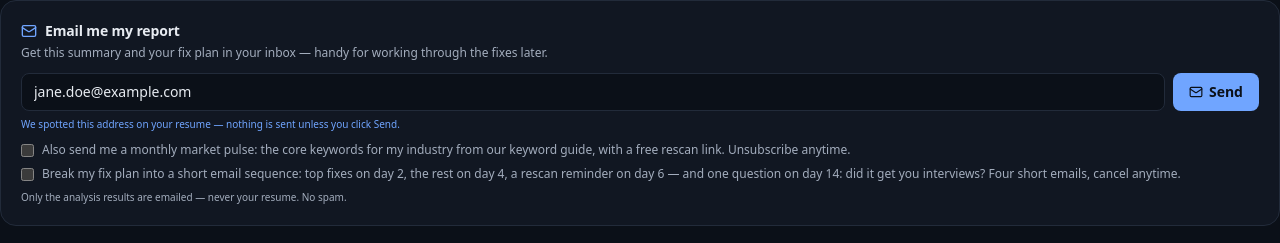
Scenario: EmailReportCapture prefill › hides the disclosure once the user edits the address
The width and height of the screenshot is (1280, 243).
Step 1. Replace the text in the field with placeholder "you@example.com" with "other@example.com" → (593, 92), box [21, 73, 1165, 111]
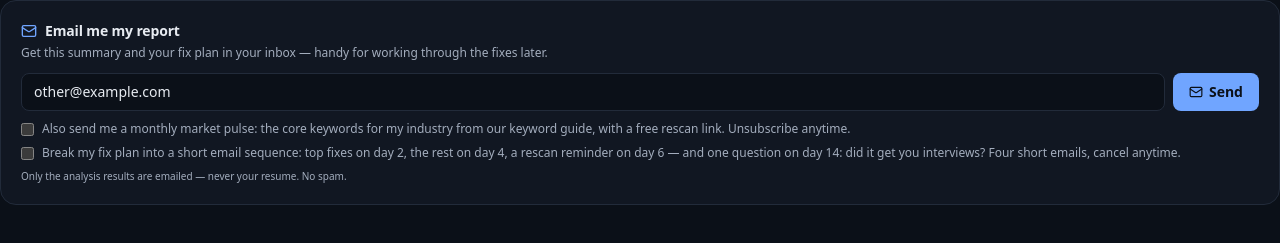
Check: the text "We spotted this address" is gone
